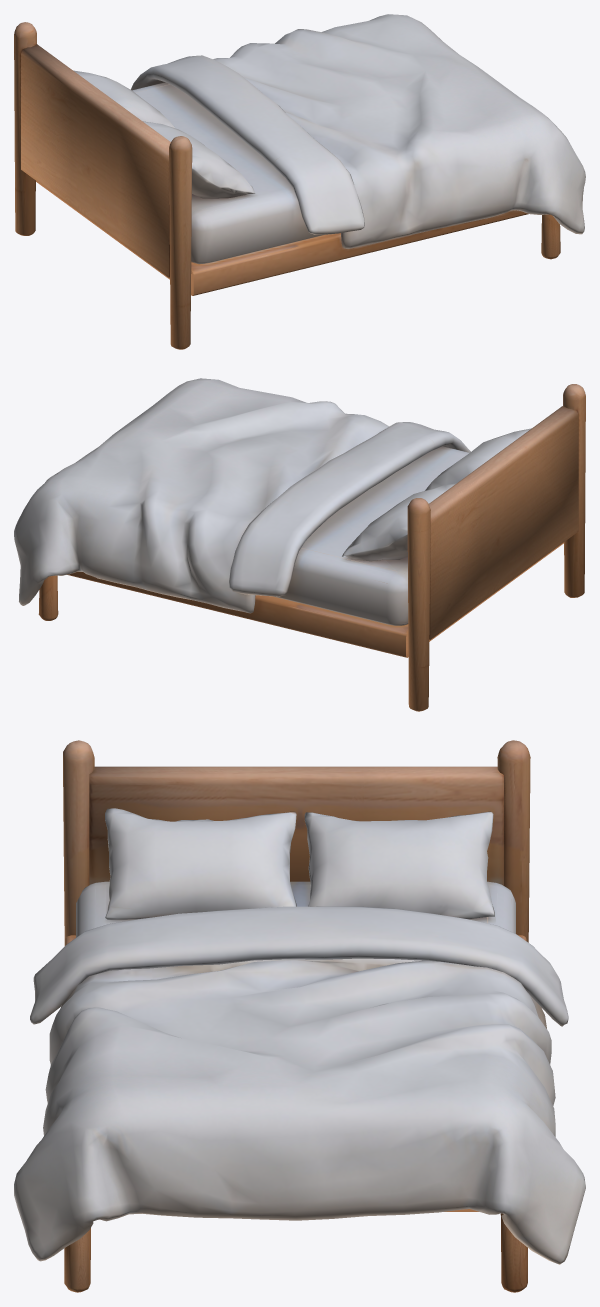
Rendered from tile9.glb.
3 views of the same model, one above another, from view 1: azimuth 30°, elevation 25°; view 2: azimuth 150°, elevation 25°; view 3: azimuth 270°, elevation 25° (orthographic). The views are drawn at different scales.
Parts seen in each view (by area): view 1: tripo_node_a946ce42-a897-4f53-8176-f3f11bd688b8; view 2: tripo_node_a946ce42-a897-4f53-8176-f3f11bd688b8; view 3: tripo_node_a946ce42-a897-4f53-8176-f3f11bd688b8.
Boxes of the visible parts, left/top/right/bottom form: tripo_node_a946ce42-a897-4f53-8176-f3f11bd688b8: left=14, top=14, right=585, bottom=349; tripo_node_a946ce42-a897-4f53-8176-f3f11bd688b8: left=14, top=378, right=585, bottom=711; tripo_node_a946ce42-a897-4f53-8176-f3f11bd688b8: left=14, top=740, right=585, bottom=1292.
Size of the model in its own units: 0.998 by 0.4785 by 0.8457.
1 material, 1 textured.
